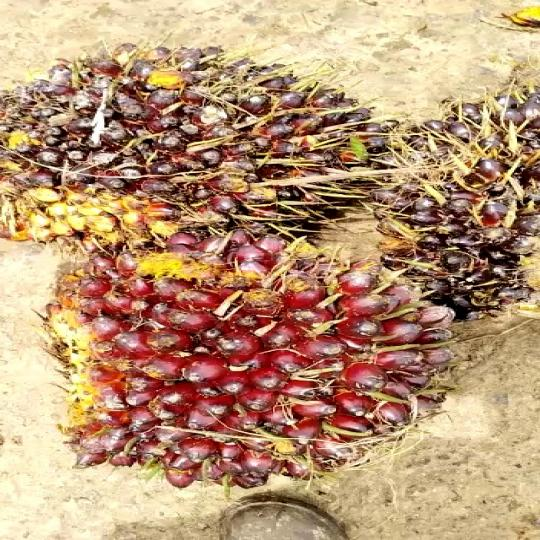kurang masak: (48, 232, 473, 495), (0, 41, 405, 254), (383, 82, 540, 327)
